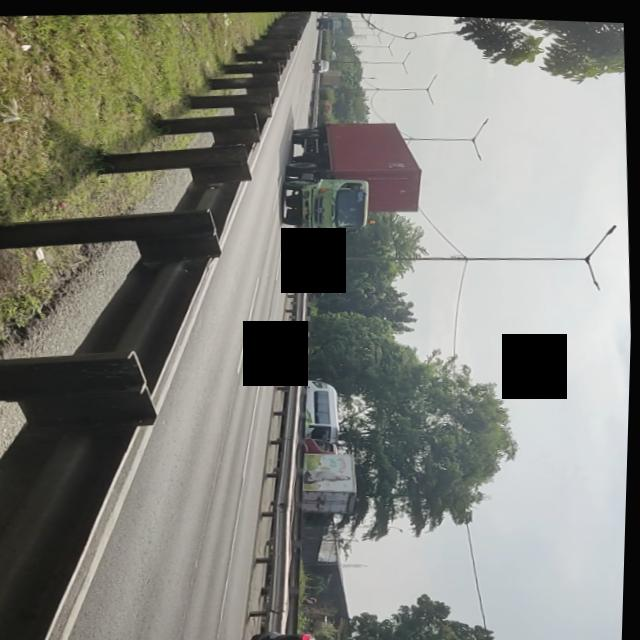Golongan IV: (272, 112, 428, 241)
